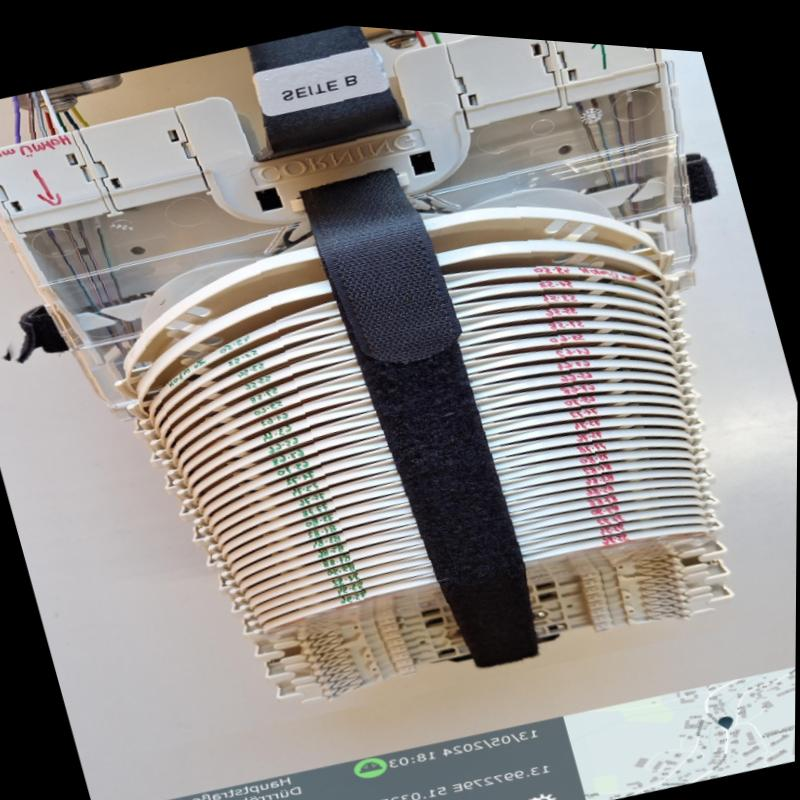NT-Muffen: (0, 20, 745, 711)
